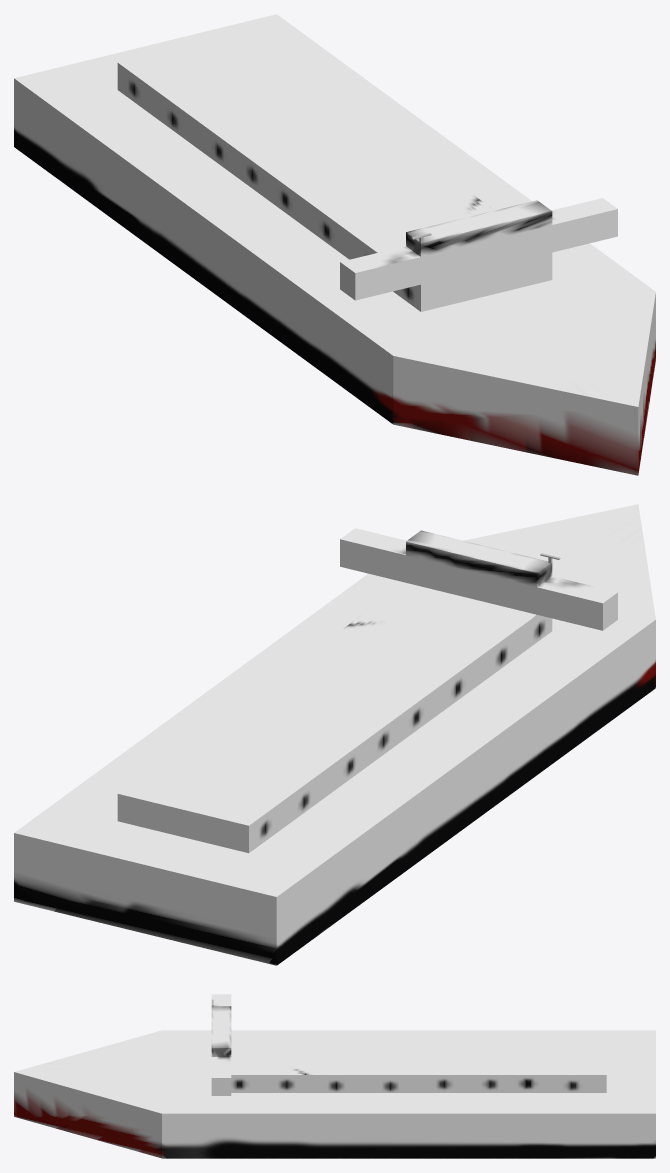
File: ship.obj
The picture shows the model from 3 angles, top to bottom: view 1: azimuth 30°, elevation 25°; view 2: azimuth 150°, elevation 25°; view 3: azimuth 270°, elevation 25°; orthographic projection. The views are drawn at different scales.
Visible parts, largest first — view 1: ship; view 2: ship; view 3: ship.
Boxes of the visible parts, x1,y1,x2,y2 form: ship: (14, 14, 655, 475); ship: (14, 504, 655, 965); ship: (14, 994, 655, 1158).
Size of the model in its own units: 2 by 1.05 by 6.5.
